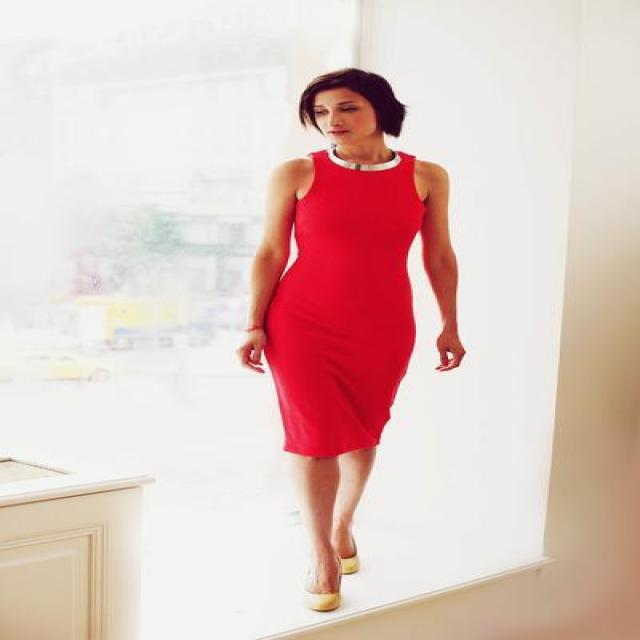dress: (266, 150, 427, 458)
shoe: (314, 550, 358, 612)
